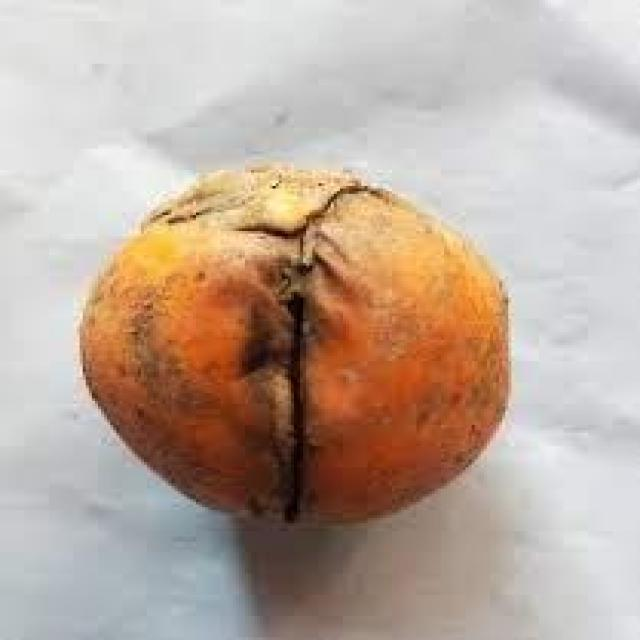damaged: (80, 162, 511, 531)
